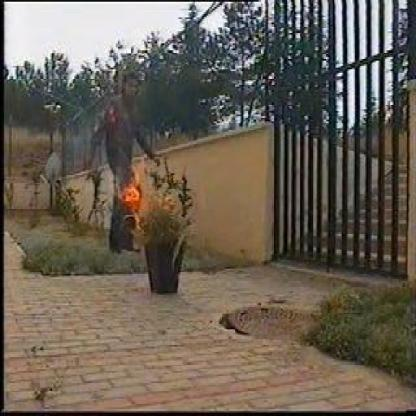foggia-v2-map80-epoch100 - v1 4323: (127, 159, 155, 214)
